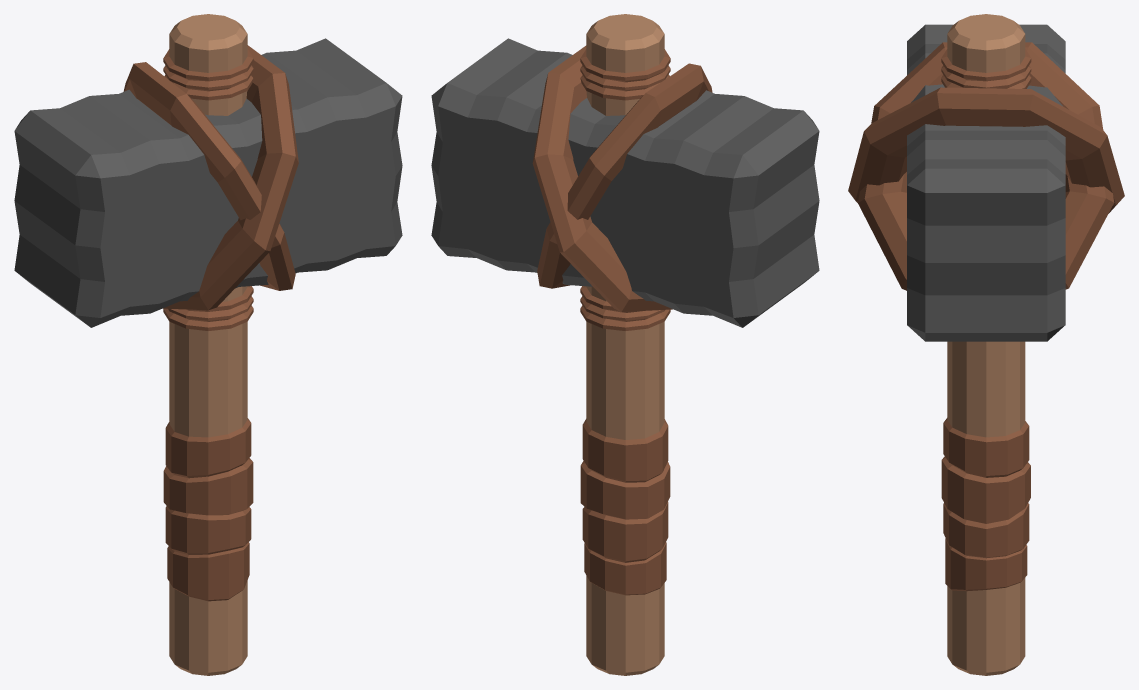
Rendered from Stone Hammer.fbx.
3 views of the same model, side by side, from view 1: azimuth 30°, elevation 25°; view 2: azimuth 150°, elevation 25°; view 3: azimuth 270°, elevation 25° (orthographic).
Parts seen in each view (by area): view 1: Stone Hammer; view 2: Stone Hammer; view 3: Stone Hammer.
Boxes of the visible parts, <box> form: Stone Hammer: <box>14,14,402,675</box>; Stone Hammer: <box>431,14,819,675</box>; Stone Hammer: <box>848,14,1124,675</box>.
Bounding box in the file's own units: 40.52 × 75.15 × 29.69.
